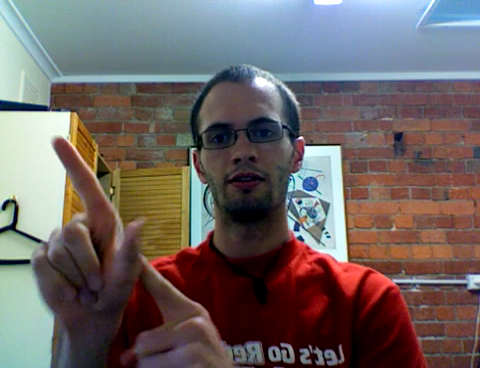Y: (25, 132, 228, 368)
